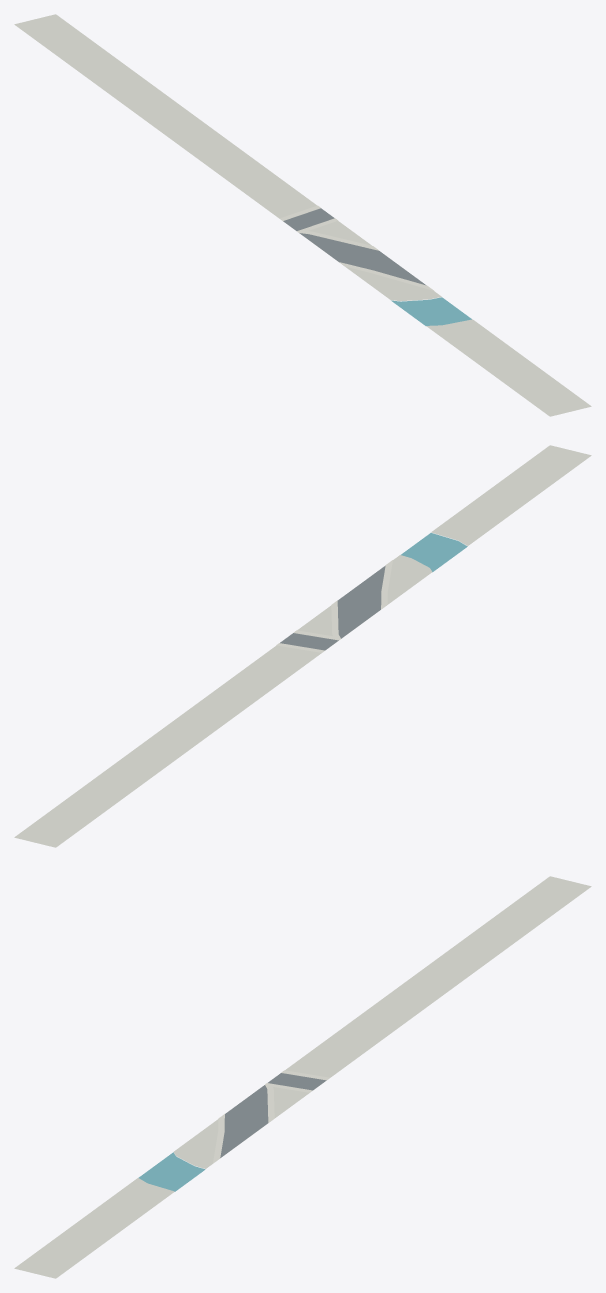
3 views of the same model, one above another, from view 1: azimuth 30°, elevation 25°; view 2: azimuth 150°, elevation 25°; view 3: azimuth 330°, elevation 25° (orthographic).
Visible parts, largest first — view 1: city; view 2: city; view 3: city.
Part boxes in pixels (x1,y1,x2,y2): city: (14, 14, 591, 416); city: (14, 445, 591, 847); city: (14, 876, 591, 1278).
Bounding box in the file's own units: 22.58 × 0.4 × 500.
